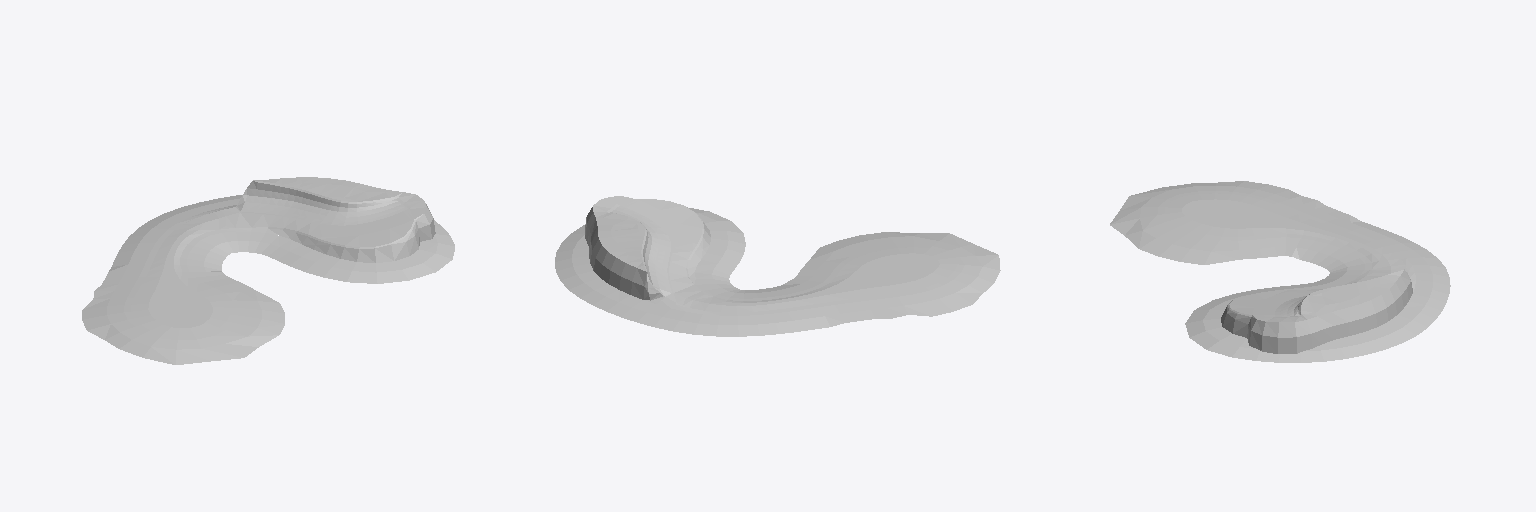
The model's file is Chunk3.obj.
3 views of the same model, side by side, from view 1: azimuth 30°, elevation 25°; view 2: azimuth 150°, elevation 25°; view 3: azimuth 270°, elevation 25° (orthographic).
Parts seen in each view (by area): view 1: object_00BC3AD4.002; view 2: object_00BC3AD4.002; view 3: object_00BC3AD4.002.
Part boxes in pixels (bbox=[...]): object_00BC3AD4.002: bbox=[82, 177, 454, 364]; object_00BC3AD4.002: bbox=[555, 196, 1000, 336]; object_00BC3AD4.002: bbox=[1110, 181, 1450, 362].
Size of the model in its own units: 1374 by 114 by 1087.